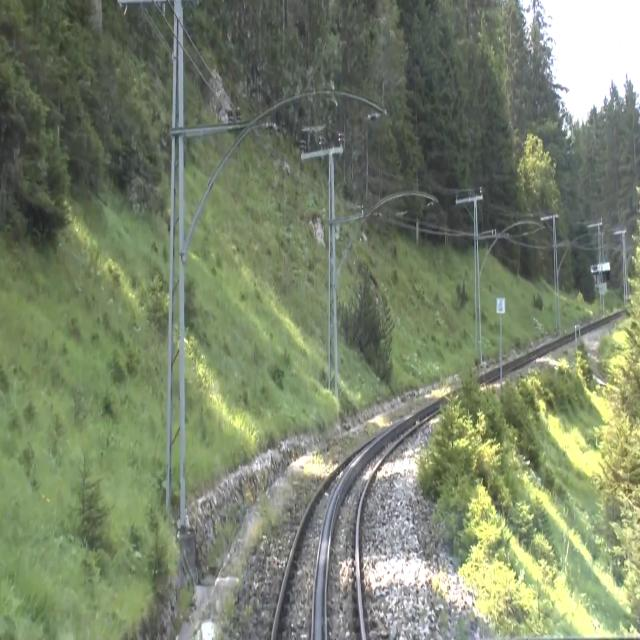rail-track: (275, 402, 441, 639), (472, 370, 499, 385)
